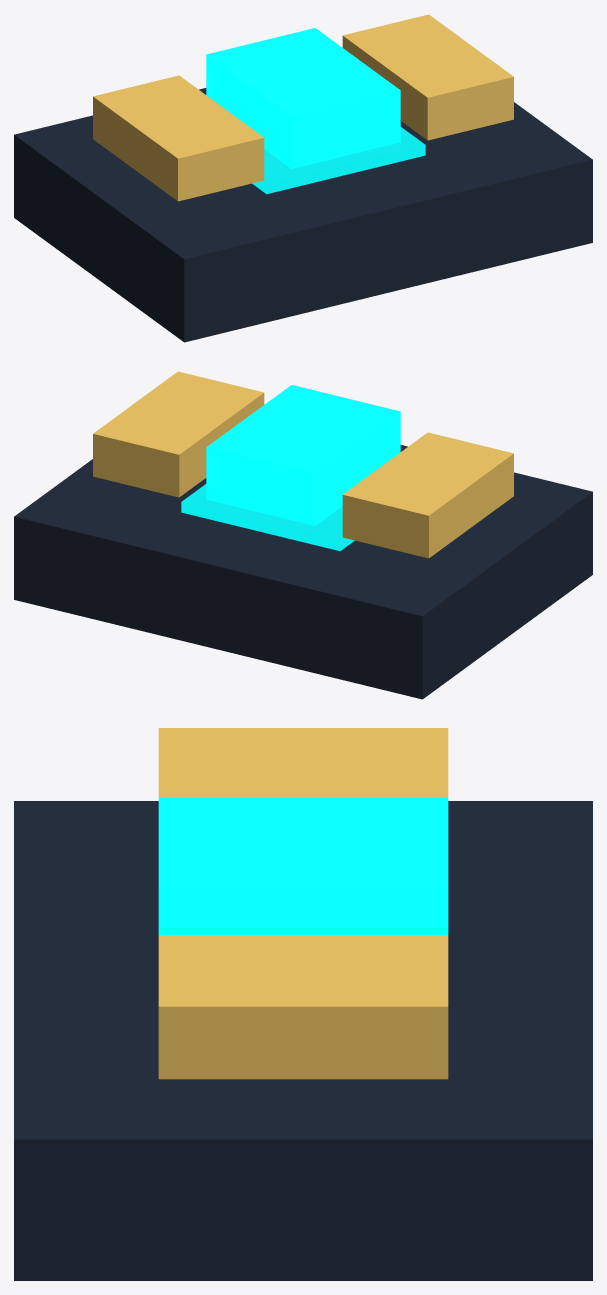
File: transistor.glb
3 renders of one model, top to bottom at view 1: azimuth 30°, elevation 25°; view 2: azimuth 150°, elevation 25°; view 3: azimuth 270°, elevation 25°, orthographic. The views are drawn at different scales.
Visible parts, largest first — view 1: TransistorMOSFET; view 2: TransistorMOSFET; view 3: TransistorMOSFET.
Part boxes in pixels (x1,y1,x2,y2): TransistorMOSFET: (14,14,592,342); TransistorMOSFET: (14,371,592,699); TransistorMOSFET: (14,728,592,1280).
Bounding box in the file's own units: 1.8 × 0.665 × 1.3.
